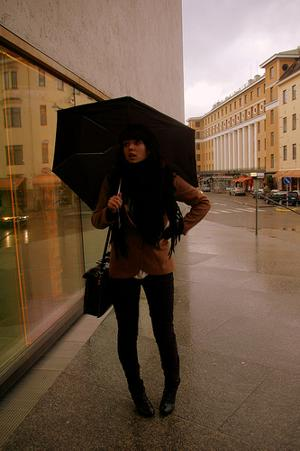person: (92, 125, 213, 417)
